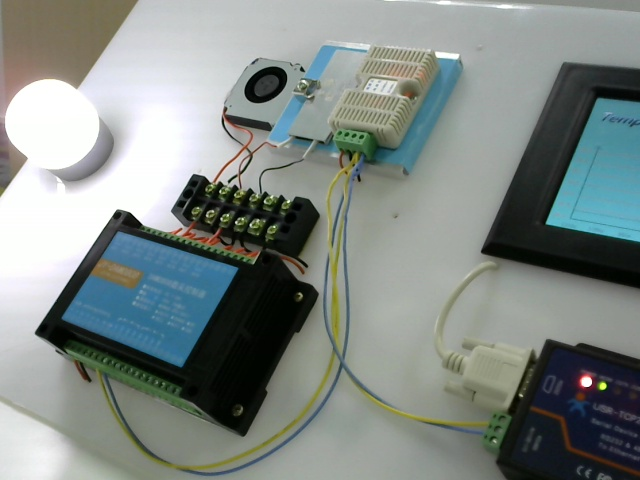relay: (20, 228, 310, 417)
